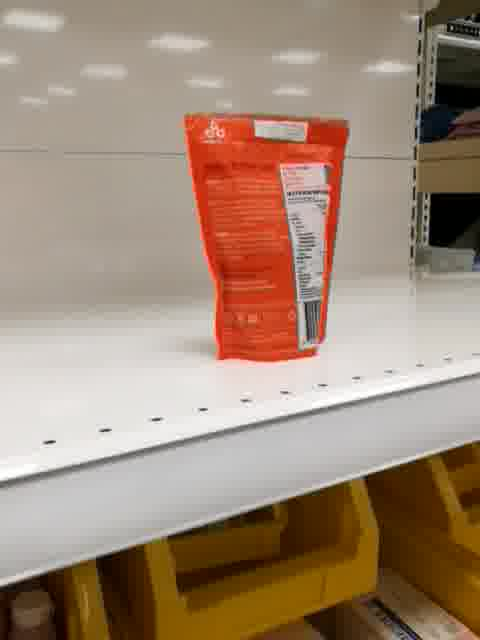whitechia: (176, 107, 354, 365)
